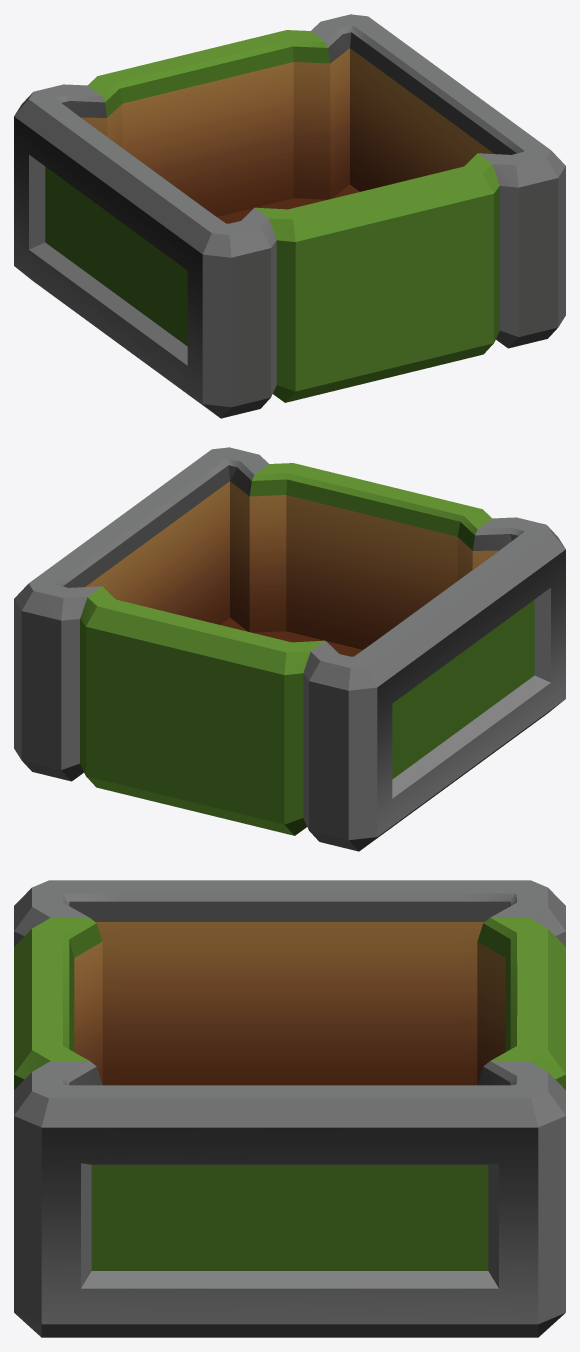
Rendered from m_deco_chestC_body.FBX.
The picture shows the model from 3 angles, top to bottom: view 1: azimuth 30°, elevation 25°; view 2: azimuth 150°, elevation 25°; view 3: azimuth 270°, elevation 25°; orthographic projection. The views are drawn at different scales.
Visible parts, largest first — view 1: m_deco_chestC_body; view 2: m_deco_chestC_body; view 3: m_deco_chestC_body.
Boxes of the visible parts, <box> form: m_deco_chestC_body: <box>14,14,565,418</box>; m_deco_chestC_body: <box>14,447,565,851</box>; m_deco_chestC_body: <box>14,880,565,1337</box>.
Size of the model in its own units: 2 by 0.9728 by 2.
